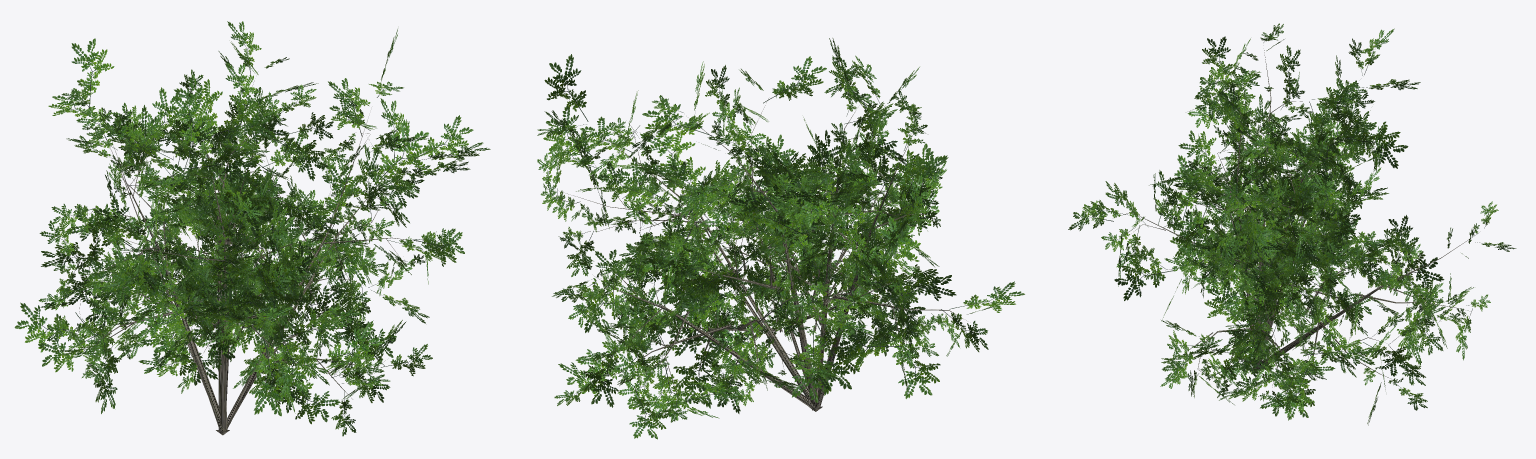
File: tree_LOD2.glb
3 views of the same model, side by side, from view 1: azimuth 30°, elevation 25°; view 2: azimuth 150°, elevation 25°; view 3: azimuth 270°, elevation 25° (orthographic). The views are drawn at different scales.
Visible parts, largest first — view 1: Leaves_LOD2, Branches_LOD2; view 2: Leaves_LOD2, Branches_LOD2; view 3: Leaves_LOD2, Branches_LOD2.
Boxes of the visible parts, bbox=[...] form: Leaves_LOD2: bbox=[14, 21, 490, 436]; Branches_LOD2: bbox=[77, 80, 418, 435]; Leaves_LOD2: bbox=[537, 38, 1024, 439]; Branches_LOD2: bbox=[567, 98, 966, 411]; Leaves_LOD2: bbox=[1068, 23, 1516, 425]; Branches_LOD2: bbox=[1118, 50, 1478, 387].
Size of the model in its own units: 37.12 by 28.15 by 34.79.
Materials: 2 (2 with a texture image).
